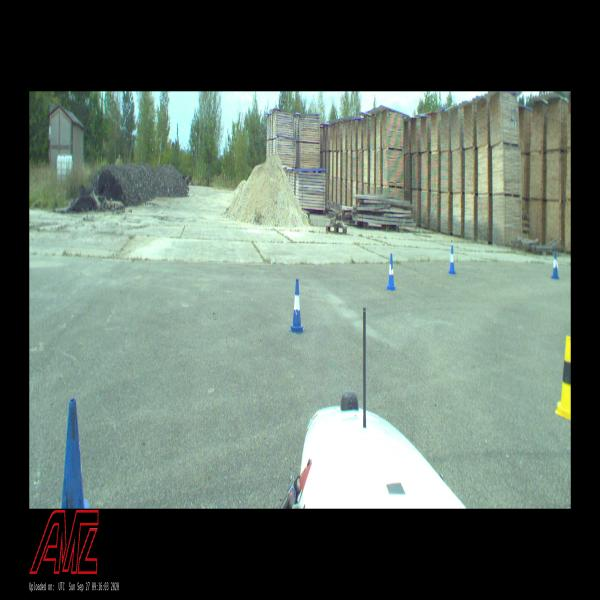blue_cone: (62, 399, 90, 508), (289, 278, 305, 334), (386, 253, 395, 290), (551, 251, 559, 279), (449, 245, 455, 274)
yellow_cone: (555, 337, 571, 420)
